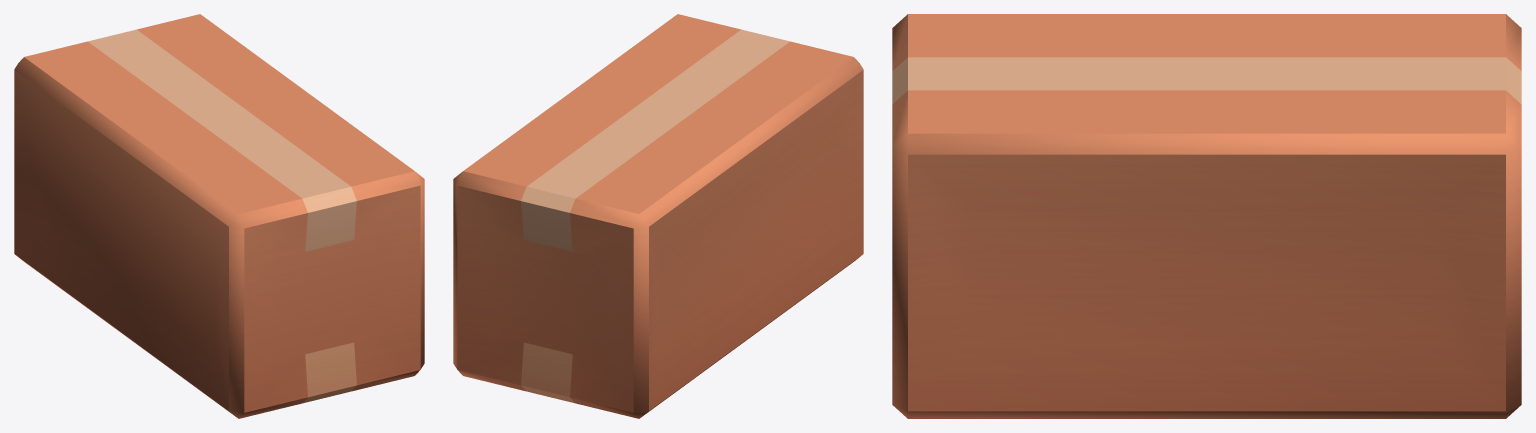
Rendered from box-large.obj.
The picture shows the model from 3 angles, left to right: view 1: azimuth 30°, elevation 25°; view 2: azimuth 150°, elevation 25°; view 3: azimuth 270°, elevation 25°; orthographic projection. The views are drawn at different scales.
Visible parts, largest first — view 1: box-large; view 2: box-large; view 3: box-large.
Boxes of the visible parts, x1,y1,x2,y2 form: box-large: (14, 14, 424, 418); box-large: (453, 14, 863, 418); box-large: (892, 14, 1521, 418).
Bounding box in the file's own units: 0.25 × 0.25 × 0.5.
Materials: 1 (1 with a texture image).
